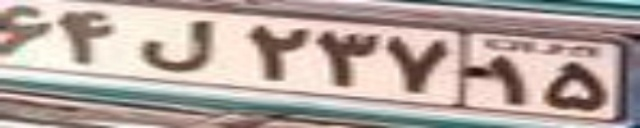1: (489, 56, 526, 104)
2: (247, 24, 305, 81)
3: (315, 30, 377, 88)
4: (57, 9, 115, 64)
5: (540, 61, 605, 111)
6: (0, 2, 52, 57)
7: (385, 35, 447, 94)
lam: (138, 19, 220, 73)
